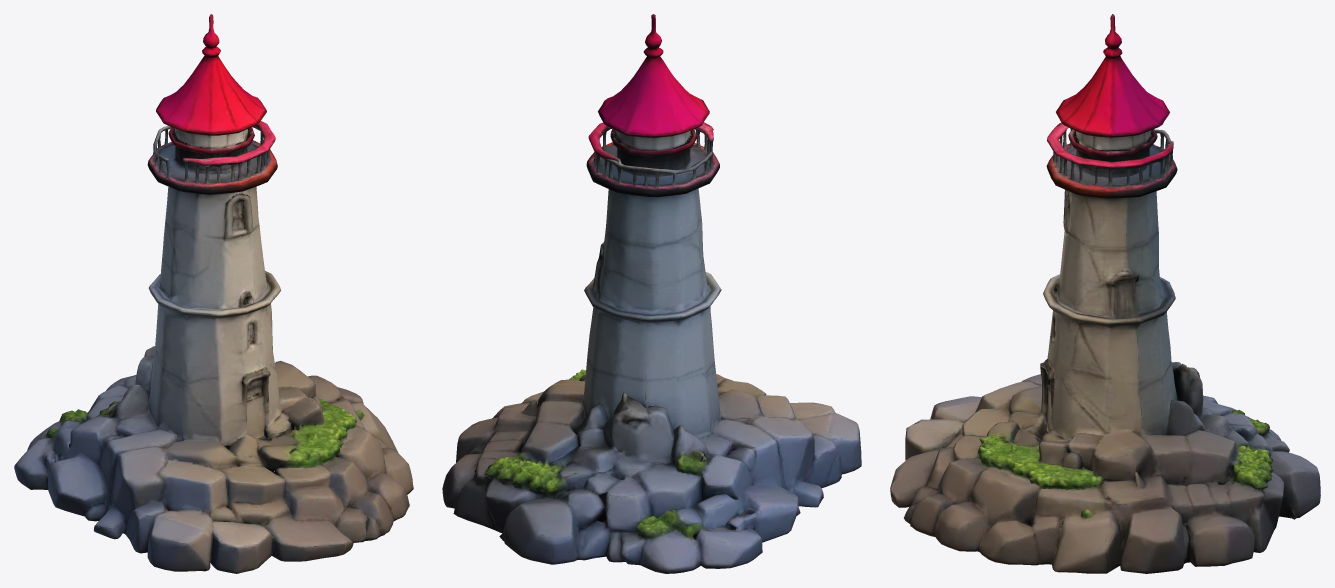
The model's file is stone-lighthouse.glb.
3 views of the same model, side by side, from view 1: azimuth 30°, elevation 25°; view 2: azimuth 150°, elevation 25°; view 3: azimuth 270°, elevation 25° (orthographic).
Parts seen in each view (by area): view 1: geometry_0; view 2: geometry_0; view 3: geometry_0.
Part boxes in pixels (x1,y1,x2,y2): geometry_0: (14,14,413,573); geometry_0: (442,14,861,573); geometry_0: (890,14,1320,573).
Size of the model in its own units: 3.53 by 5 by 4.09.
Materials: 1 (1 with a texture image).
